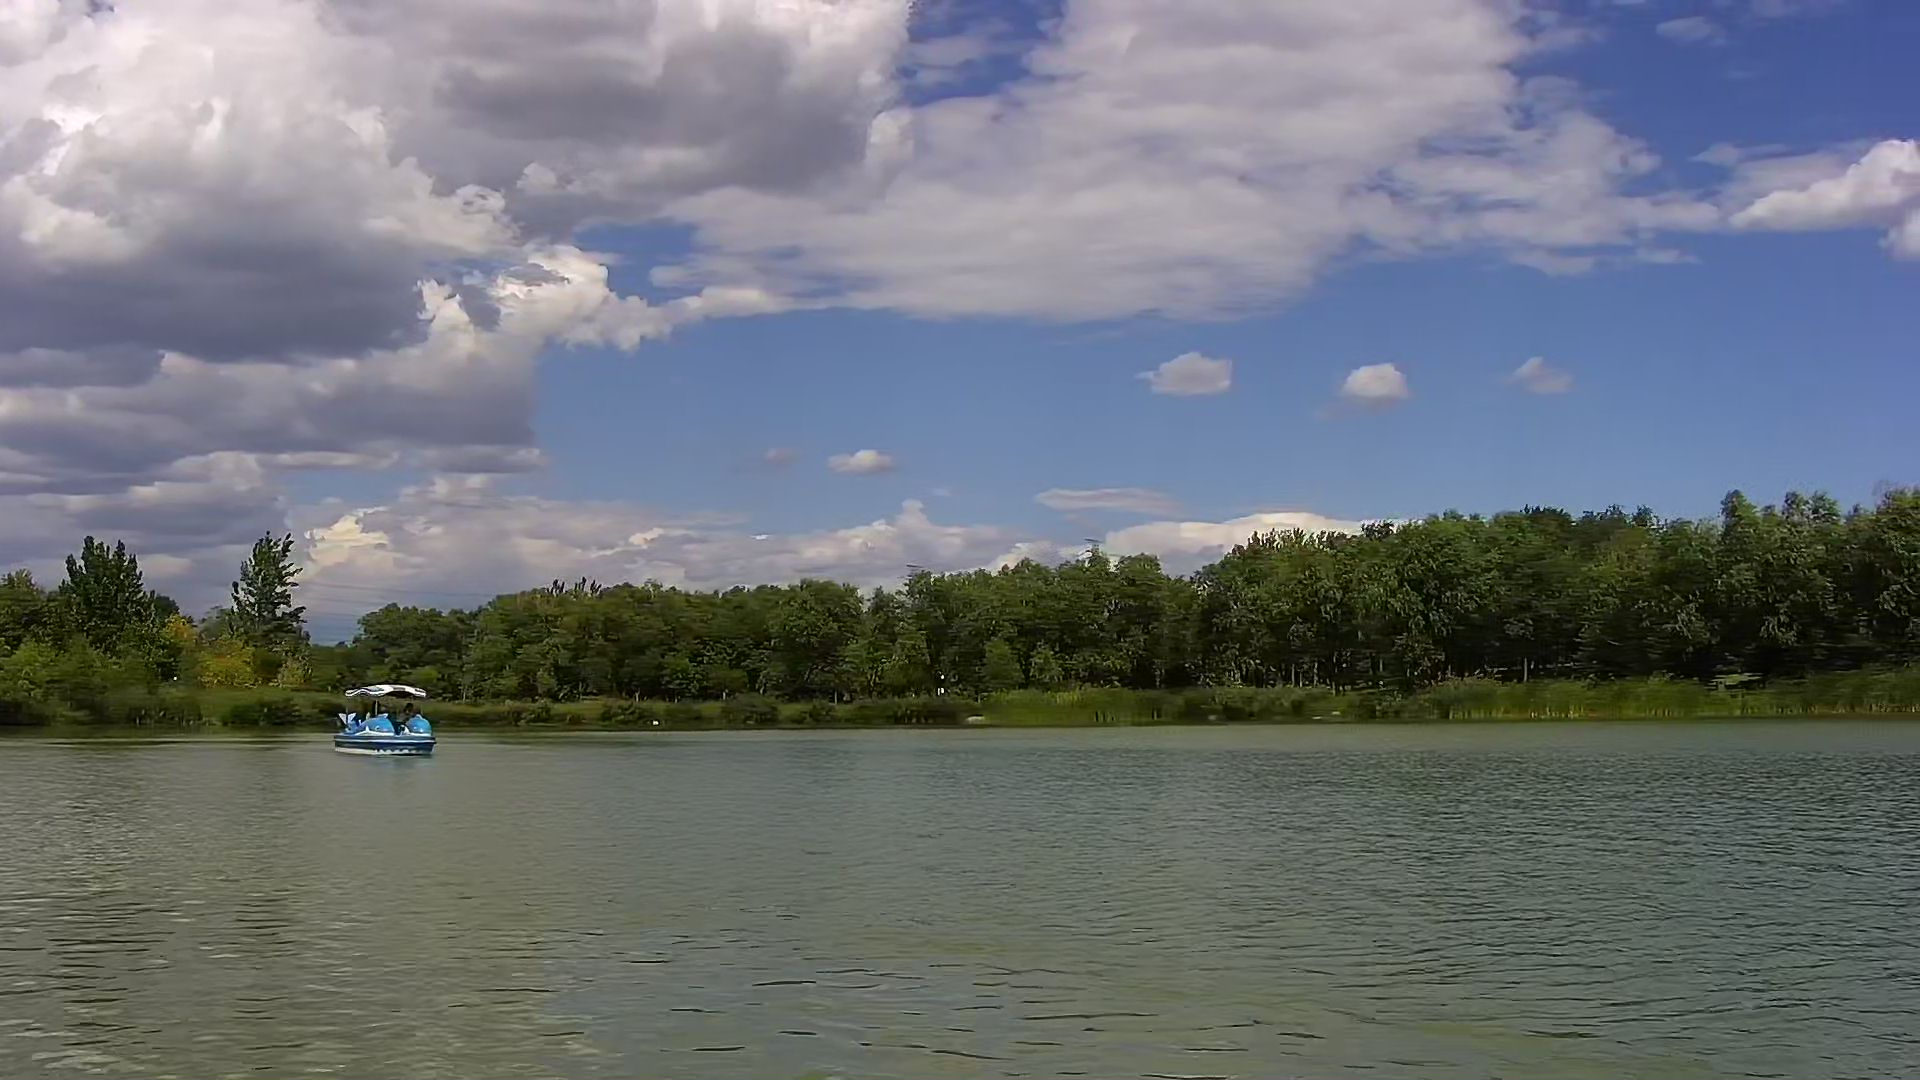boat: (328, 683, 436, 757)
